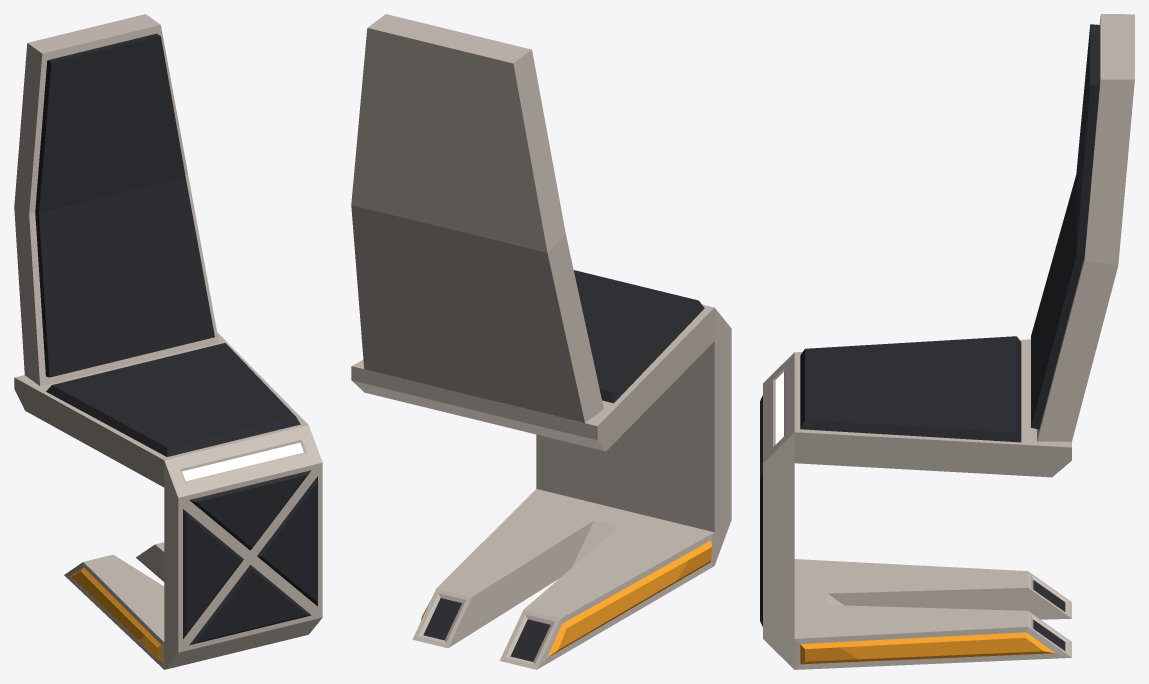
File: SM_Chair_Indoor.glb
3 renders of one model, left to right at view 1: azimuth 30°, elevation 25°; view 2: azimuth 150°, elevation 25°; view 3: azimuth 270°, elevation 25°, orthographic. The views are drawn at different scales.
Parts seen in each view (by area): view 1: SM_Chair_Indoor; view 2: SM_Chair_Indoor; view 3: SM_Chair_Indoor.
Boxes of the visible parts, bbox=[...] form: SM_Chair_Indoor: bbox=[14, 14, 322, 669]; SM_Chair_Indoor: bbox=[351, 14, 731, 669]; SM_Chair_Indoor: bbox=[760, 14, 1134, 669].
Size of the model in its own units: 0.4338 by 1.07 by 0.622.
2 materials, 1 textured.
